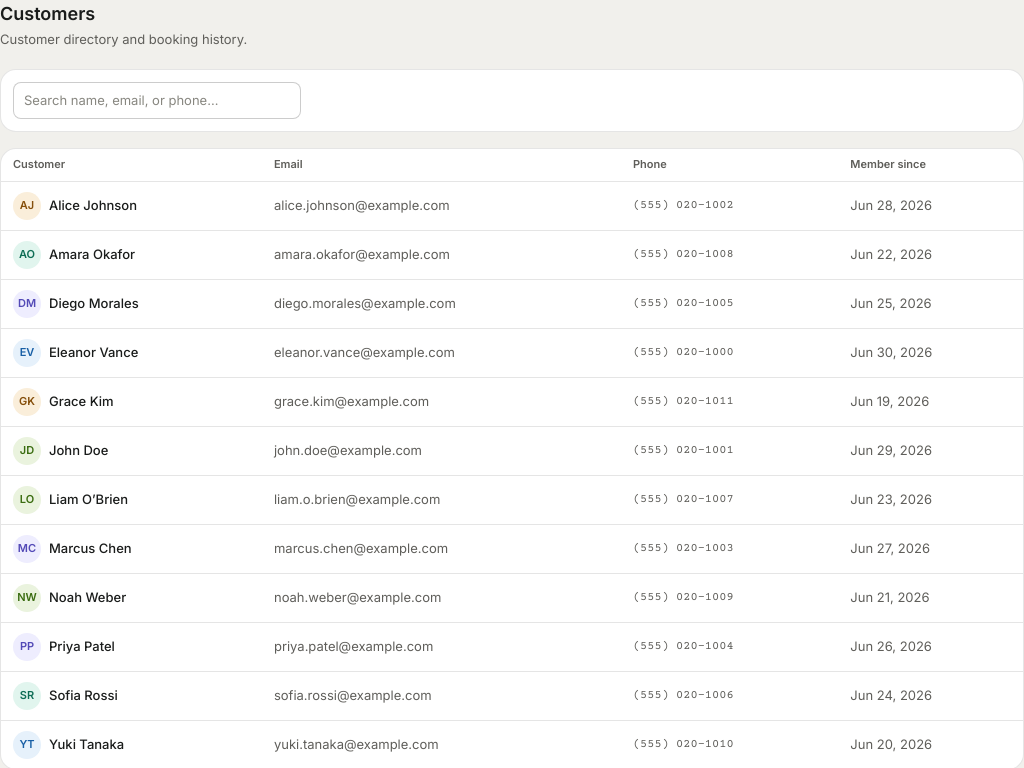
Test: CustomersPage › lists seeded customers and filters by search
Expected: the text "Eleanor Vance" is shown, [49,343,138,362]
Step 1. Type "Eleanor" into the field with placeholder "Search name, email, or phone…" → (157, 100), box [13,82,301,119]
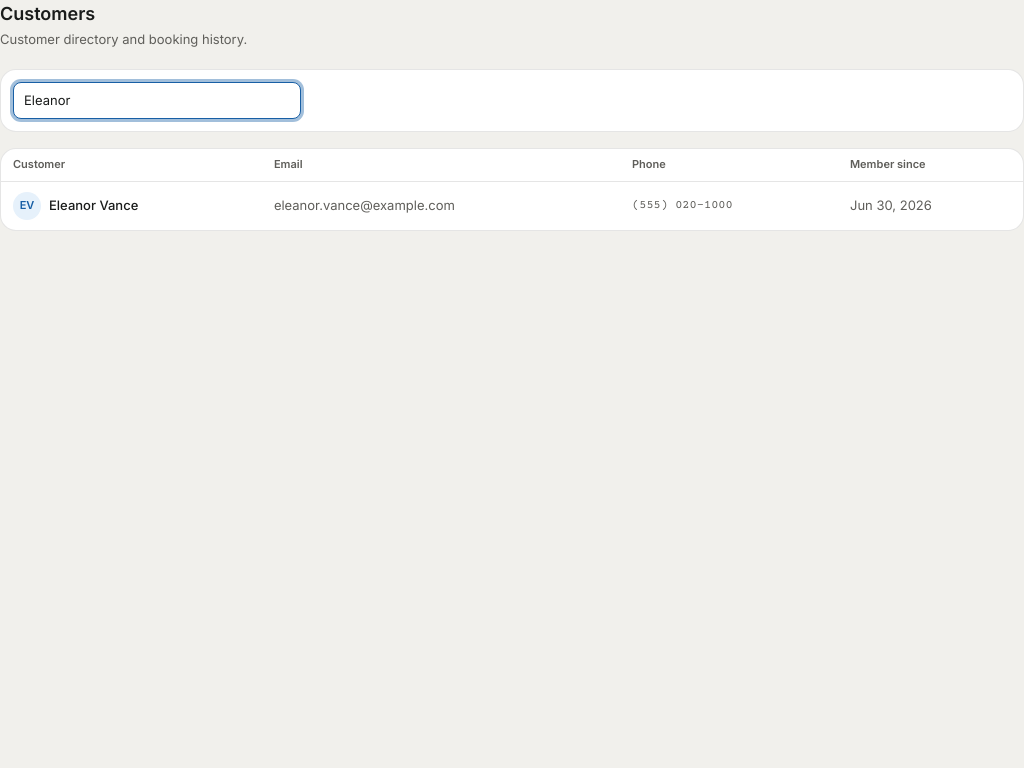
Expected: the text "Eleanor Vance" is shown, [49,196,138,215]
Result: the button "John Doe" is gone
